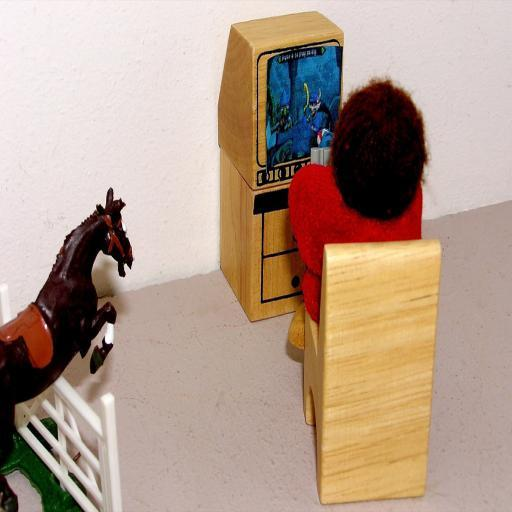Horse: (0, 188, 136, 512)
